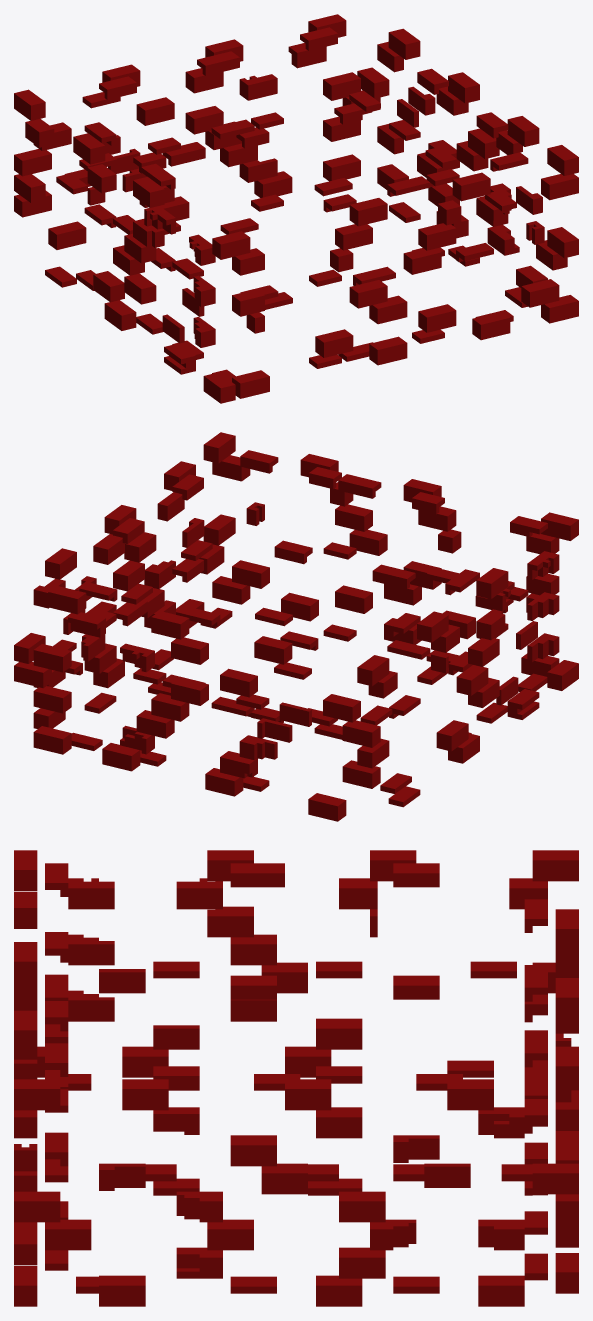
Rendered from brickhouse-1.obj.
The picture shows the model from 3 angles, top to bottom: view 1: azimuth 30°, elevation 25°; view 2: azimuth 150°, elevation 25°; view 3: azimuth 270°, elevation 25°; orthographic projection. The views are drawn at different scales.
Bounding box in the file's own units: 7.3 × 3.1 × 7.3.
Materials: 1 (1 with a texture image).
